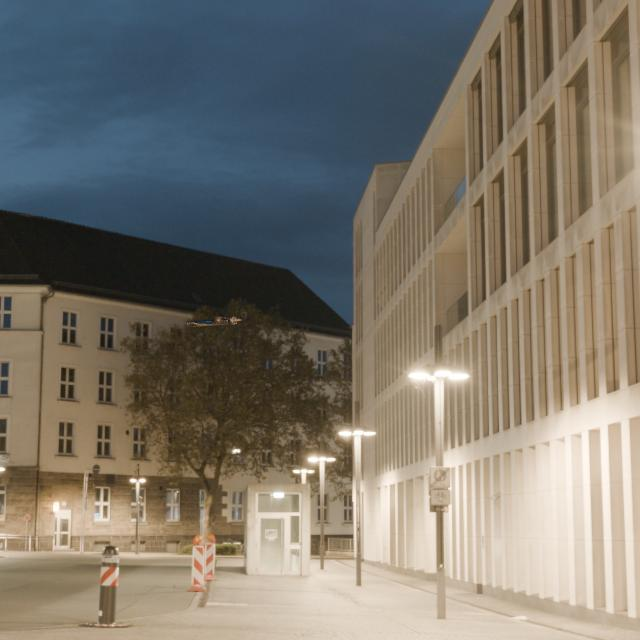Airaplan: (187, 312, 247, 327)
